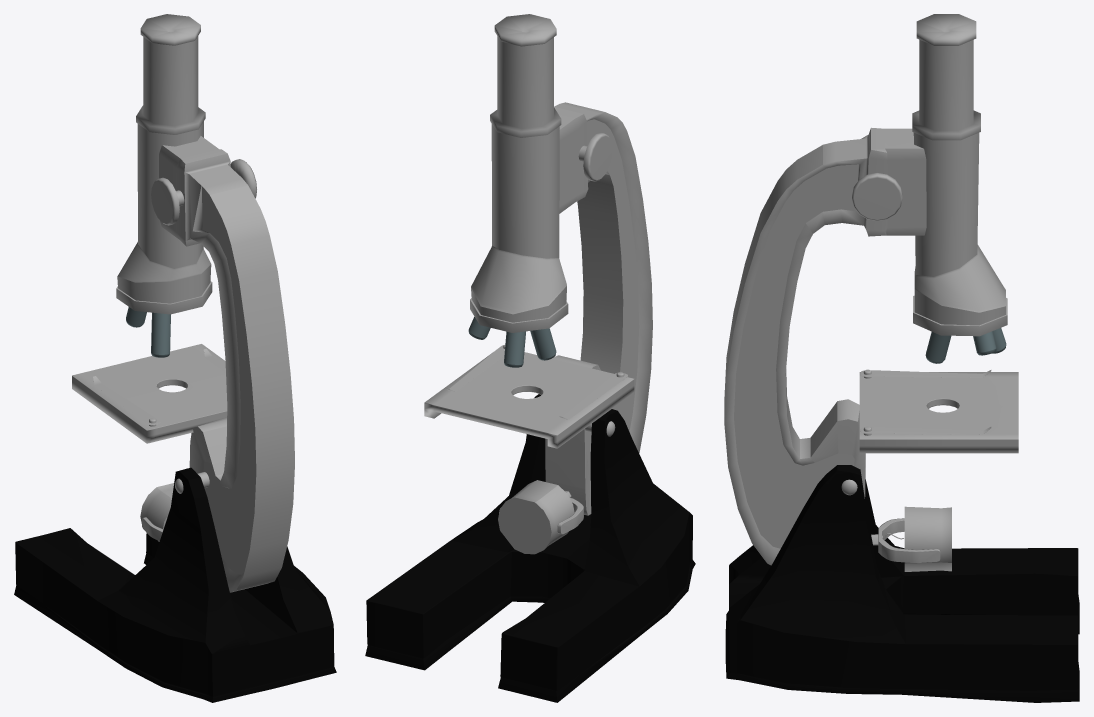
The model's file is Compound microscope.fbx.
3 renders of one model, left to right at view 1: azimuth 30°, elevation 25°; view 2: azimuth 150°, elevation 25°; view 3: azimuth 270°, elevation 25°, orthographic. The views are drawn at different scales.
Visible parts, largest first — view 1: Compound_microscope; view 2: Compound_microscope; view 3: Compound_microscope.
Part boxes in pixels (x1=…): Compound_microscope: x1=14, y1=14, x2=336, y2=702; Compound_microscope: x1=365, y1=14, x2=695, y2=702; Compound_microscope: x1=724, y1=14, x2=1079, y2=702.
Size of the model in its own units: 39.13 by 116 by 59.68.
